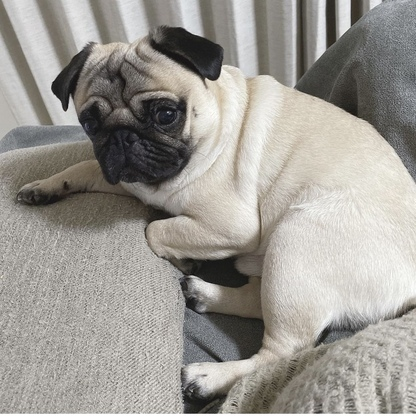Pug: (12, 21, 416, 406)
